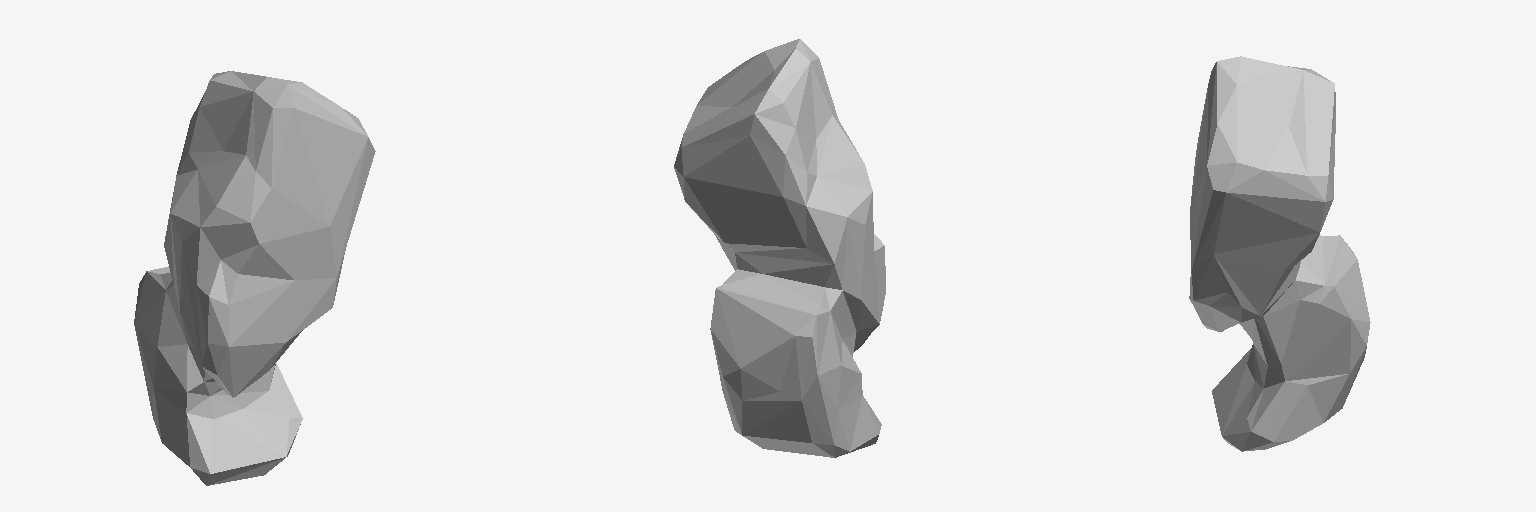
File: LeftLeg.obj
3 renders of one model, left to right at view 1: azimuth 30°, elevation 25°; view 2: azimuth 150°, elevation 25°; view 3: azimuth 270°, elevation 25°, orthographic.
Parts seen in each view (by area): view 1: Stone:Mesh; view 2: Stone:Mesh; view 3: Stone:Mesh.
Part boxes in pixels (x1,y1,x2,y2): Stone:Mesh: (134,71,375,485); Stone:Mesh: (674,39,885,457); Stone:Mesh: (1189,56,1370,451).
Size of the model in its own units: 2.16 by 4.55 by 1.91.